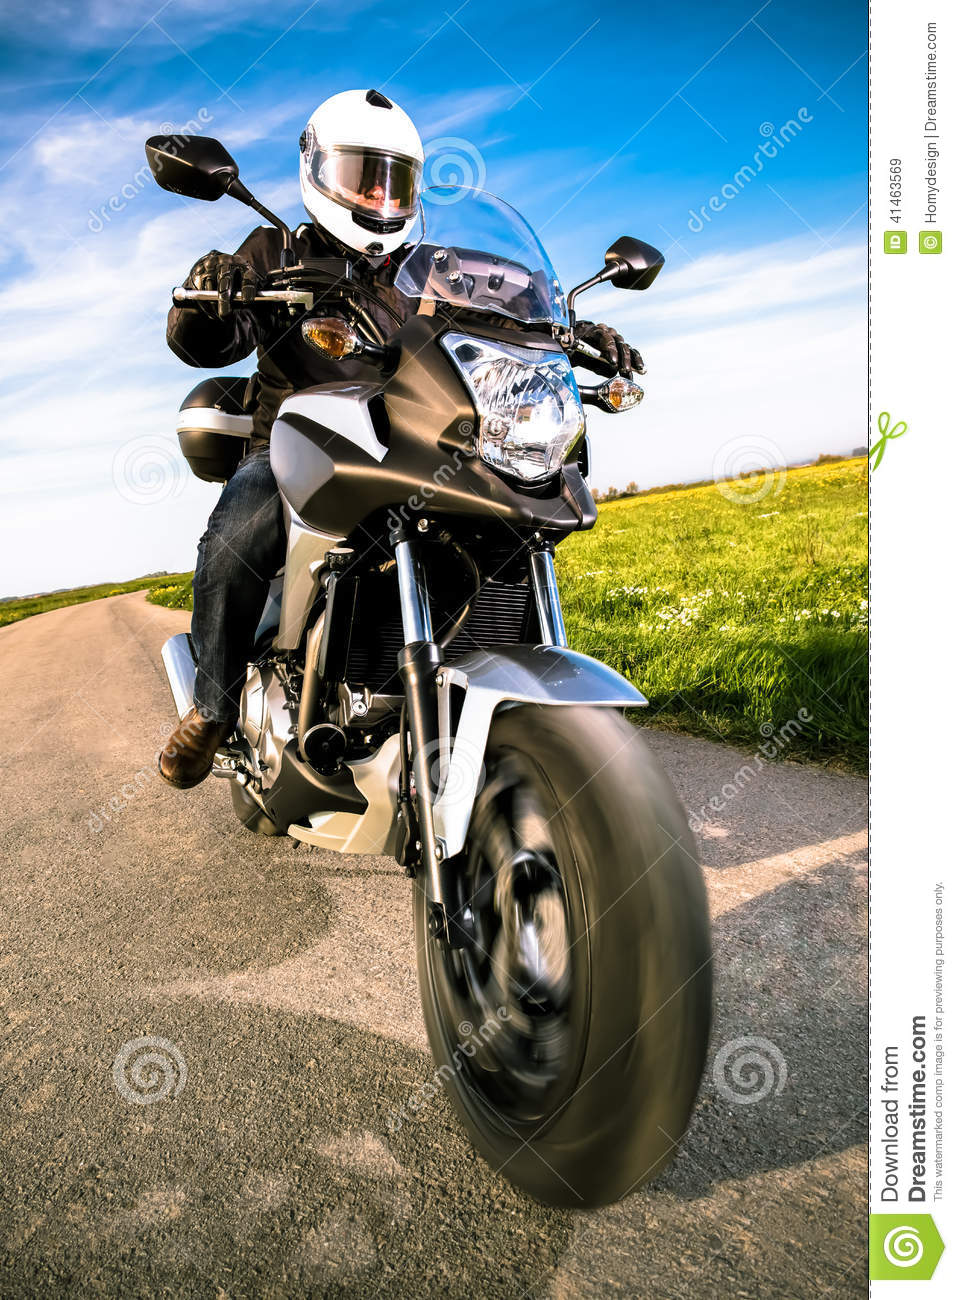helmet: (299, 83, 427, 243)
